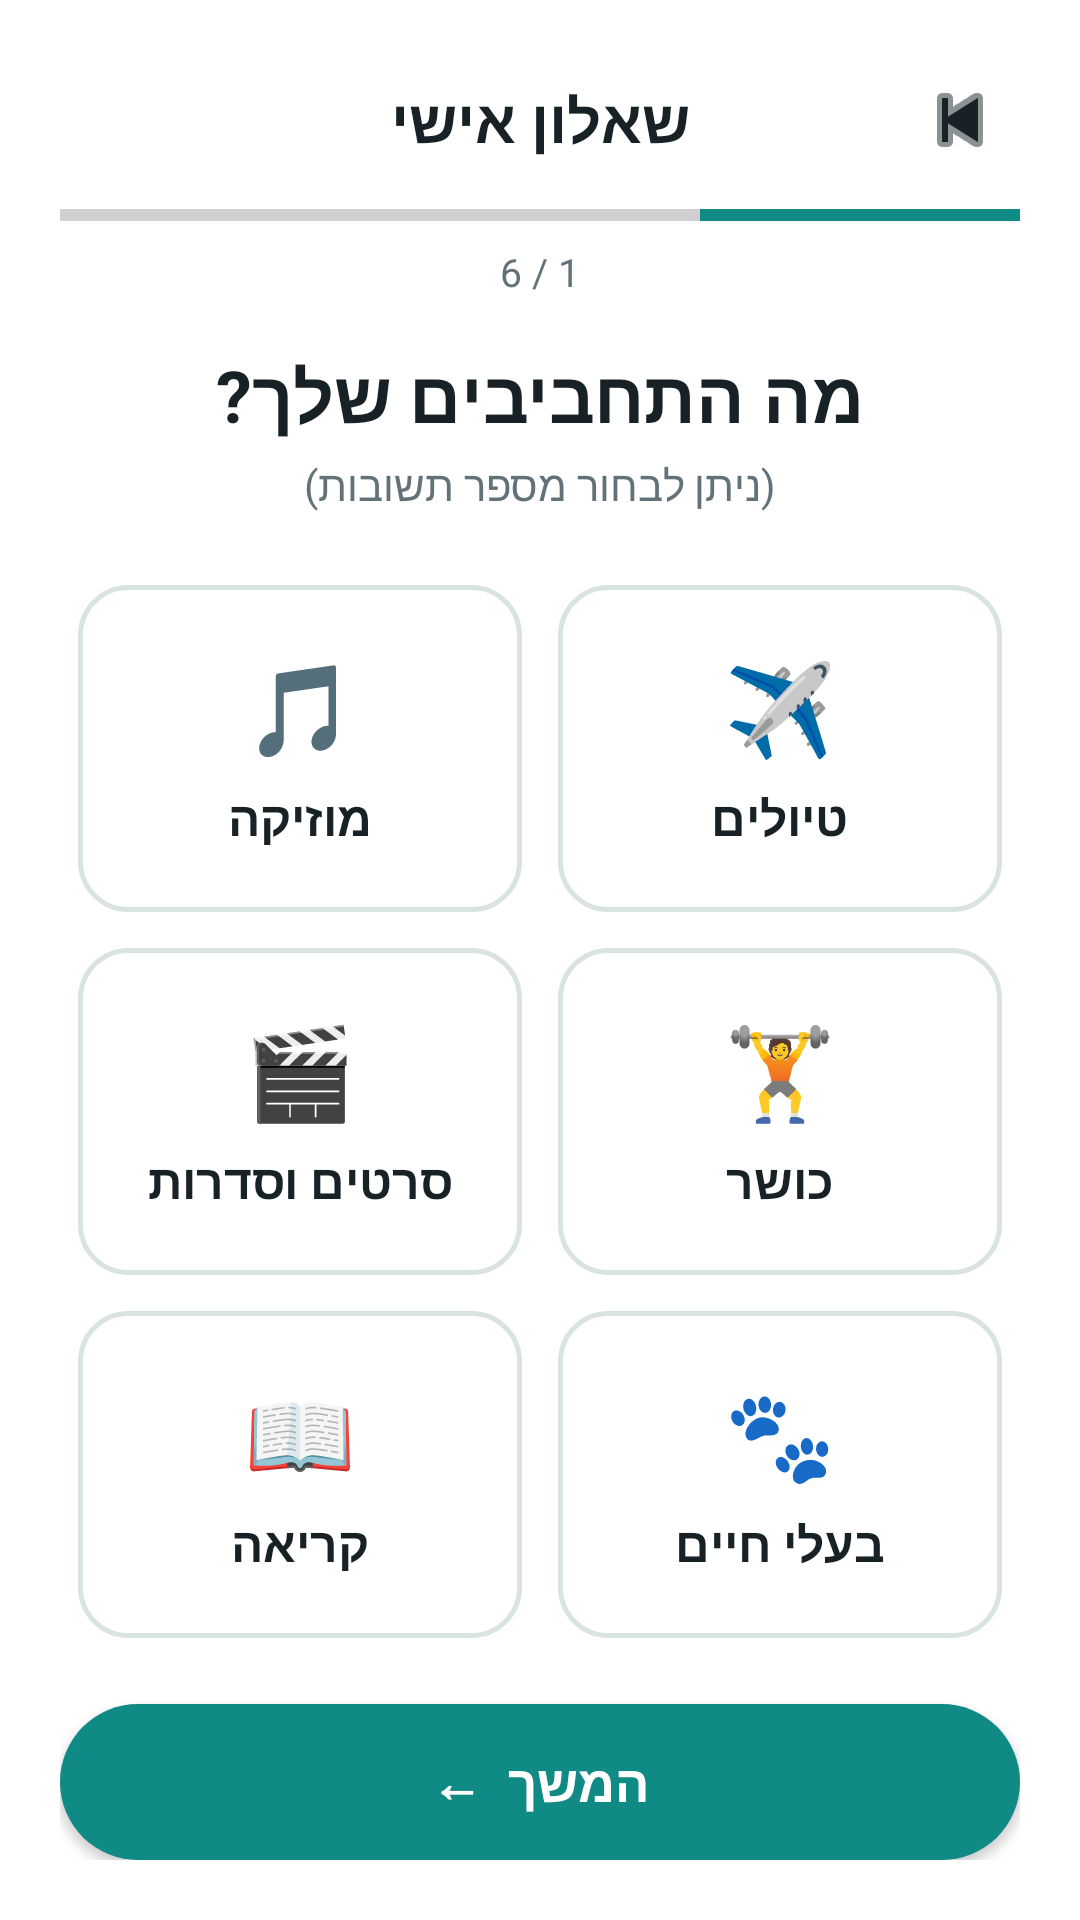

Point at icon controls on the screen. Image size 1080 × 1920, points as (x,y).
חזרה: (960,120)
